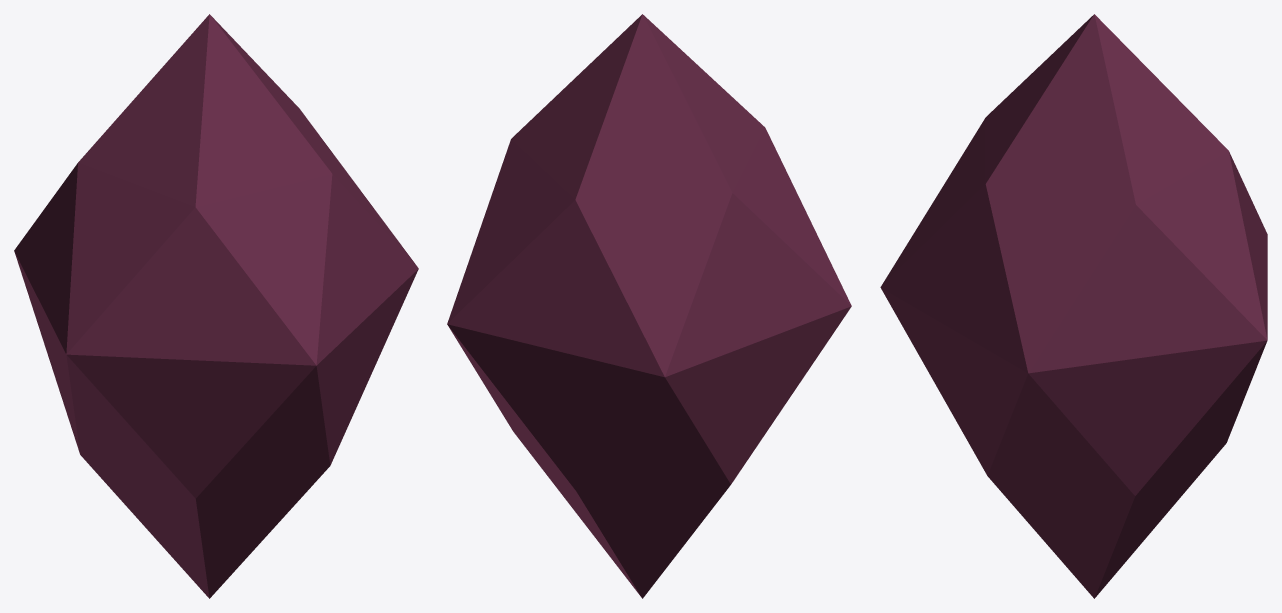
Rendered from Gem_07.glb.
3 views of the same model, side by side, from view 1: azimuth 30°, elevation 25°; view 2: azimuth 150°, elevation 25°; view 3: azimuth 270°, elevation 25° (orthographic).
Visible parts, largest first — view 1: Gem_07; view 2: Gem_07; view 3: Gem_07.
Boxes of the visible parts, box(x1,y1,x2,y2) form: Gem_07: box(14, 14, 418, 598); Gem_07: box(447, 14, 851, 598); Gem_07: box(880, 14, 1267, 598).
Size of the model in its own units: 0.0765 by 0.1213 by 0.0727.
